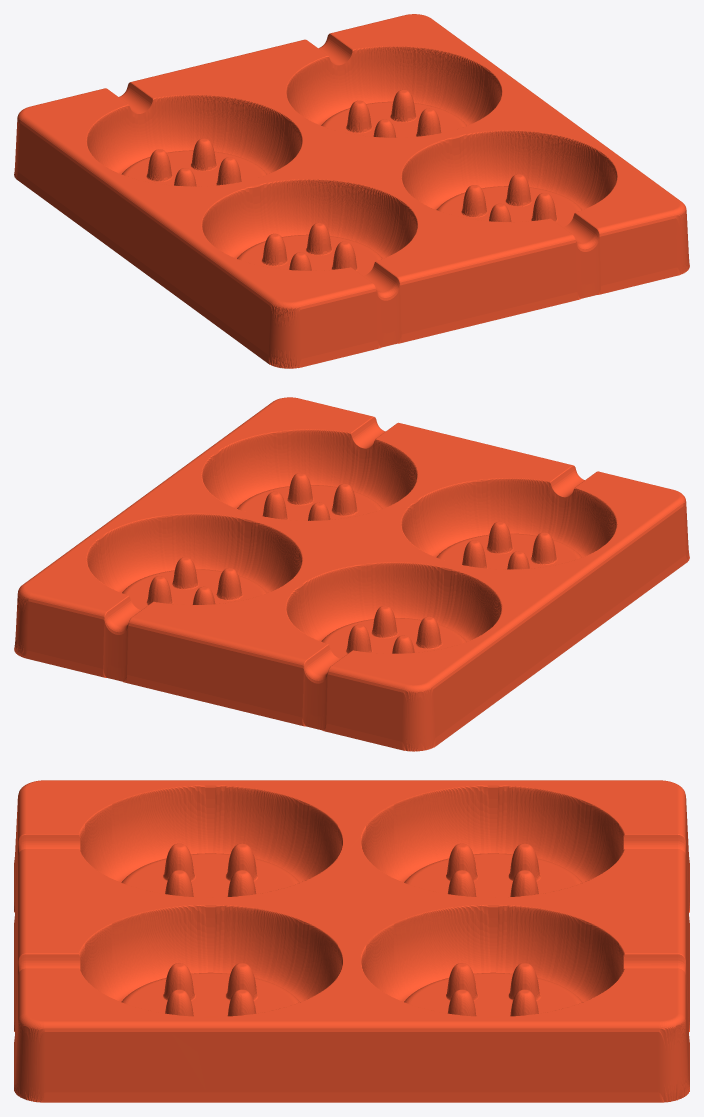
Rendered from mold.glb.
3 views of the same model, one above another, from view 1: azimuth 30°, elevation 25°; view 2: azimuth 150°, elevation 25°; view 3: azimuth 270°, elevation 25° (orthographic). The views are drawn at different scales.
Visible parts, largest first — view 1: geometry_0; view 2: geometry_0; view 3: geometry_0.
Part boxes in pixels (<box>): geometry_0: <box>14,14,689,368</box>; geometry_0: <box>14,397,689,751</box>; geometry_0: <box>14,780,689,1102</box>.
Size of the model in its own units: 0.1726 by 0.0245 by 0.1968.
